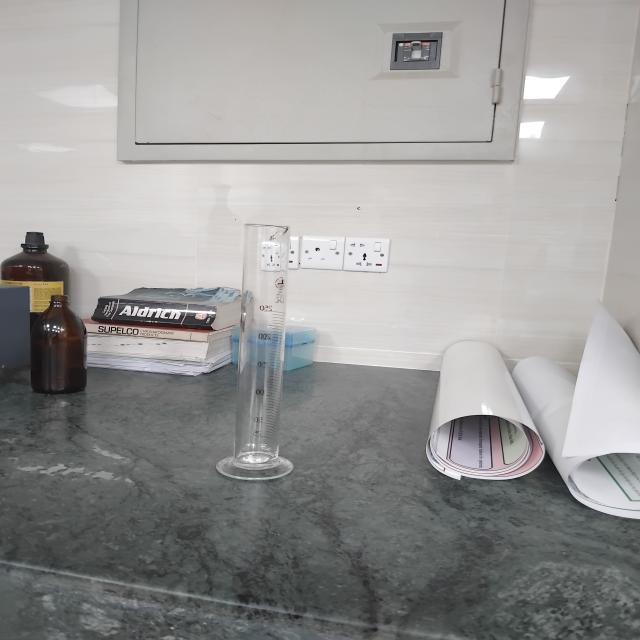Measuring_Cylinder: (196, 169, 330, 502)
